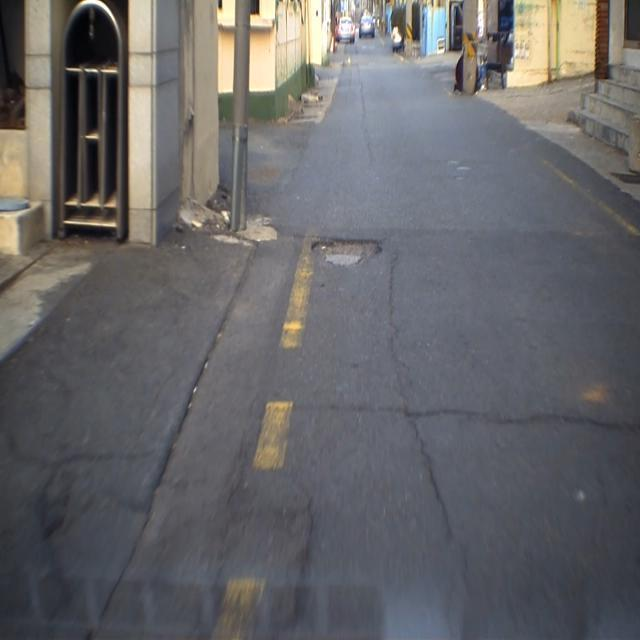pothole: (309, 229, 388, 278)
